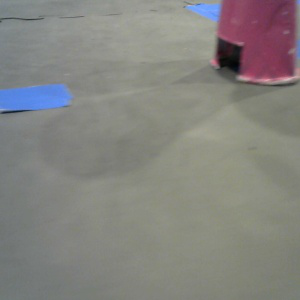right: (209, 1, 299, 85)
